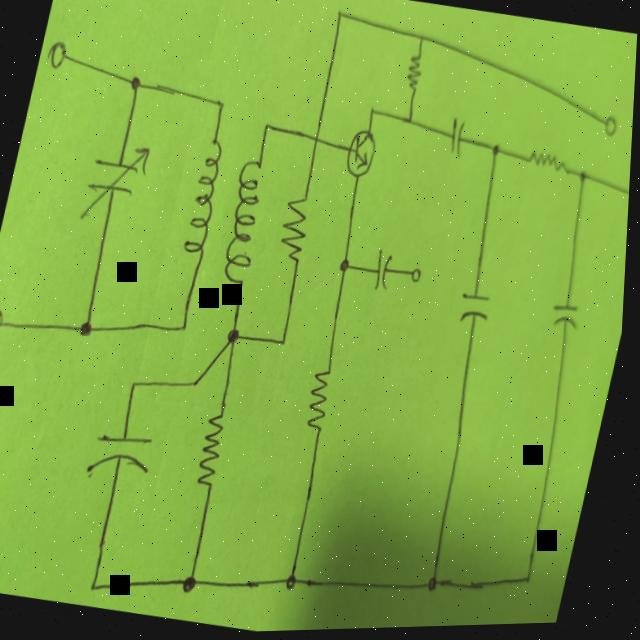capacitor: (82, 137, 152, 226), (91, 427, 159, 478), (459, 290, 493, 327), (550, 301, 585, 333), (445, 118, 470, 157), (372, 252, 395, 290)
junction: (184, 570, 205, 594), (79, 314, 99, 336), (227, 325, 244, 347), (429, 572, 446, 594), (288, 568, 304, 591), (400, 112, 419, 130), (213, 96, 230, 116), (338, 257, 354, 275), (178, 317, 193, 336), (129, 71, 142, 92), (576, 169, 589, 190), (487, 144, 502, 162), (279, 333, 292, 350), (131, 375, 144, 392), (414, 31, 427, 47), (261, 119, 273, 136), (333, 6, 345, 23), (191, 375, 203, 391), (527, 572, 539, 588), (311, 133, 322, 148), (367, 105, 378, 120), (92, 579, 104, 592)
resistor: (197, 411, 233, 489), (276, 192, 315, 262), (306, 367, 339, 430), (525, 148, 574, 178), (403, 47, 427, 94)
terminal: (46, 36, 70, 69), (409, 262, 427, 290), (601, 115, 620, 139), (0, 304, 10, 336), (627, 187, 632, 206)
transformer: (176, 134, 277, 288)
transistor: (343, 127, 380, 181)
